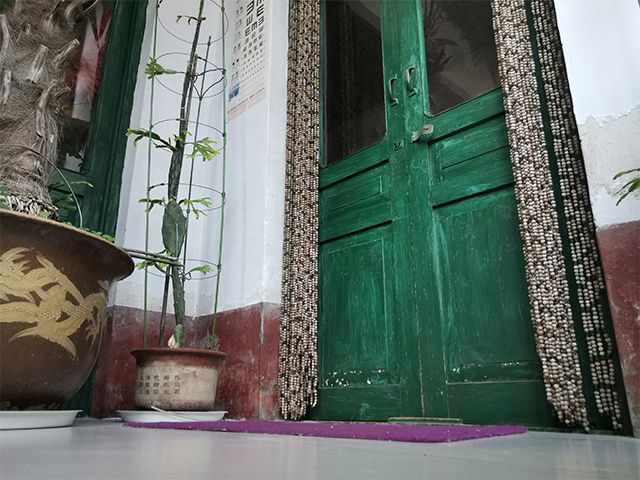carpet: (119, 418, 529, 444)
